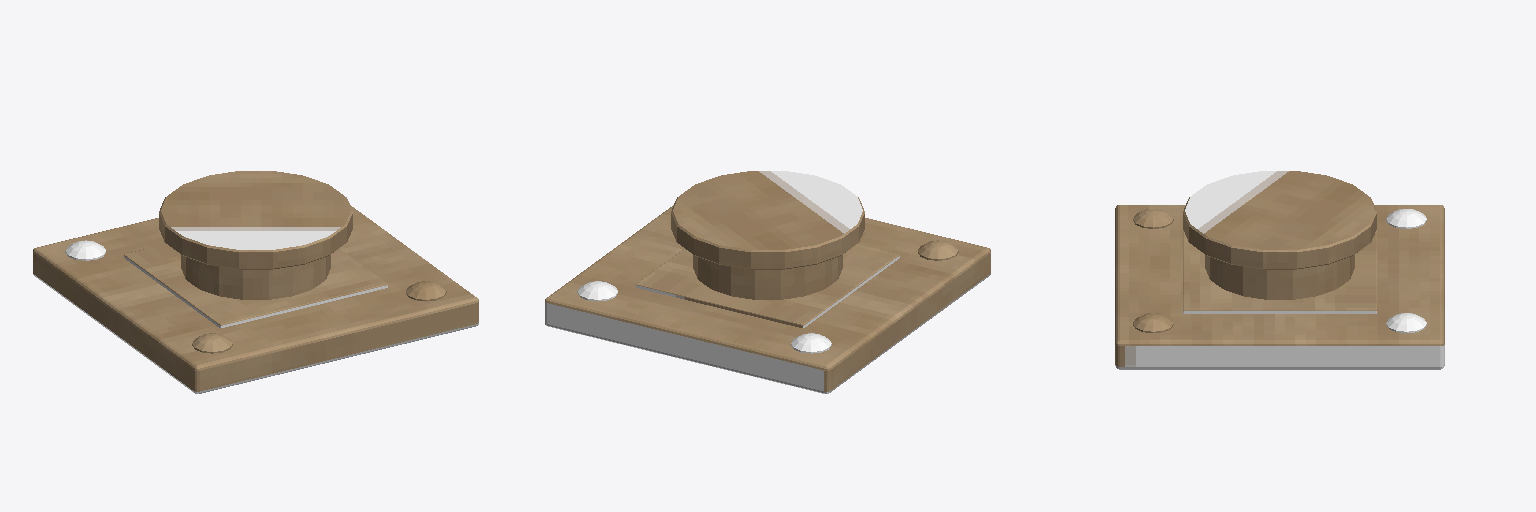
3 views of the same model, side by side, from view 1: azimuth 30°, elevation 25°; view 2: azimuth 150°, elevation 25°; view 3: azimuth 270°, elevation 25° (orthographic).
Visible parts, largest first — view 1: BRB; view 2: BRB; view 3: BRB.
Boxes of the visible parts, x1=… form: BRB: x1=33, y1=171, x2=478, y2=393; BRB: x1=545, y1=171, x2=990, y2=393; BRB: x1=1115, y1=171, x2=1444, y2=369.
Bounding box in the file's own units: 0.2116 × 0.0646 × 0.2116.
1 materials, 1 textured.